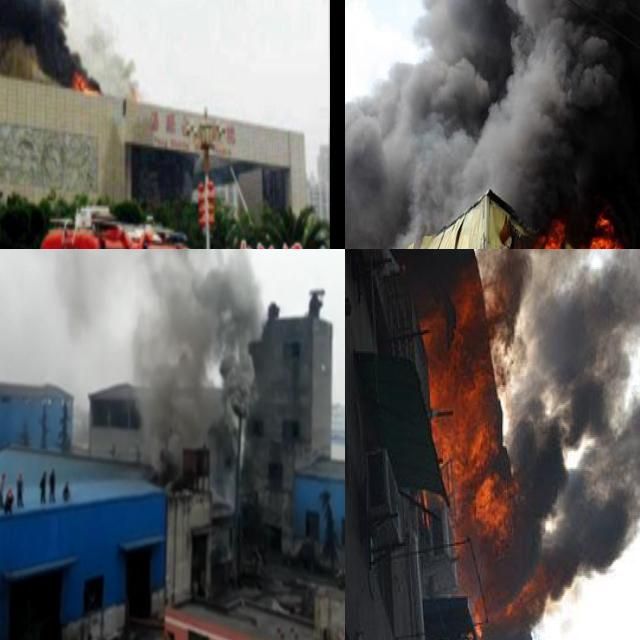fire: (420, 280, 554, 637), (507, 216, 624, 249), (574, 214, 622, 249), (74, 70, 95, 96)
smoke: (345, 0, 640, 249), (0, 249, 260, 468), (474, 249, 640, 590)
